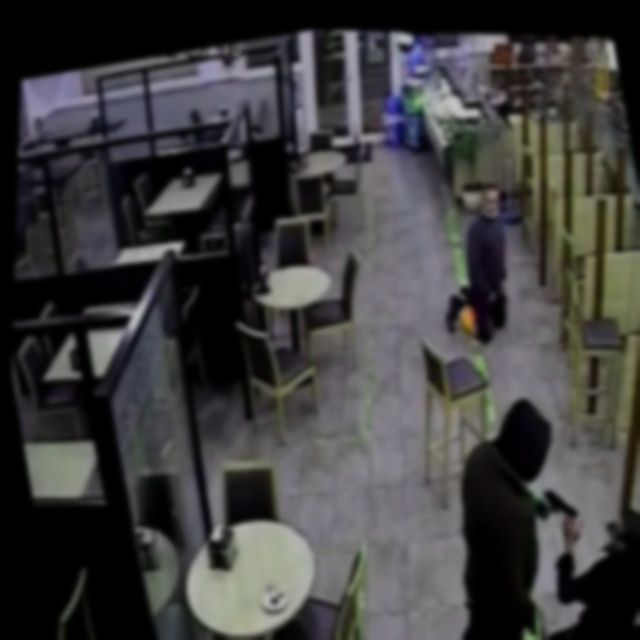gun: (521, 468, 596, 547)
